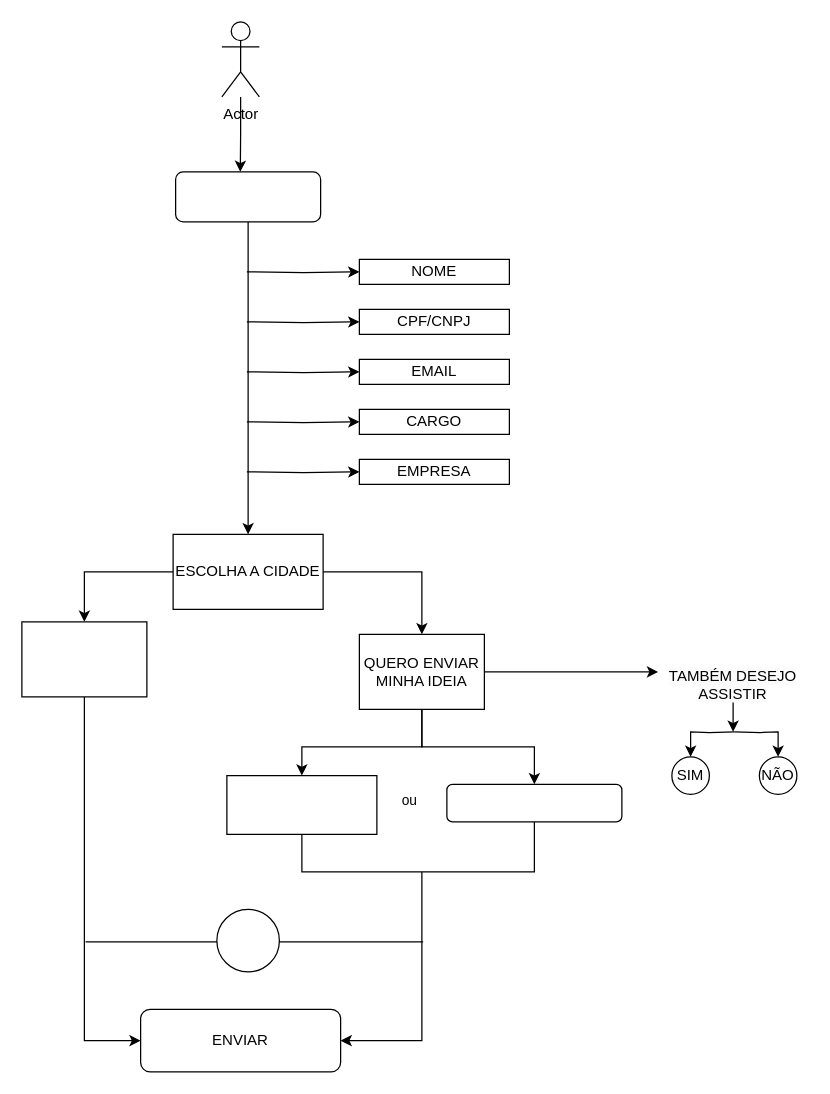
Image size: 830x1094. Some labels were removed from this diagram. Each missing label, with the centre of its shape:
DIGITE A SUA IDEIA: [301,804]
OPTIN: [247,940]
PARTICIPE: [247,196]
QUERO ASSISTIR: [84,659]
UPLOAD DE ARQUIVO: [534,802]
